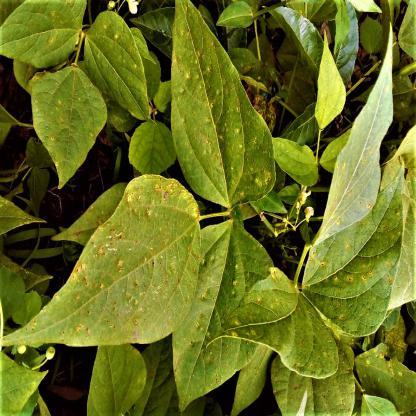Beans_Rust: (27, 183, 206, 339), (163, 5, 278, 207), (178, 222, 286, 395), (308, 171, 401, 333), (212, 266, 341, 382), (30, 62, 118, 175), (84, 14, 154, 116), (0, 0, 83, 61), (356, 346, 416, 416)
